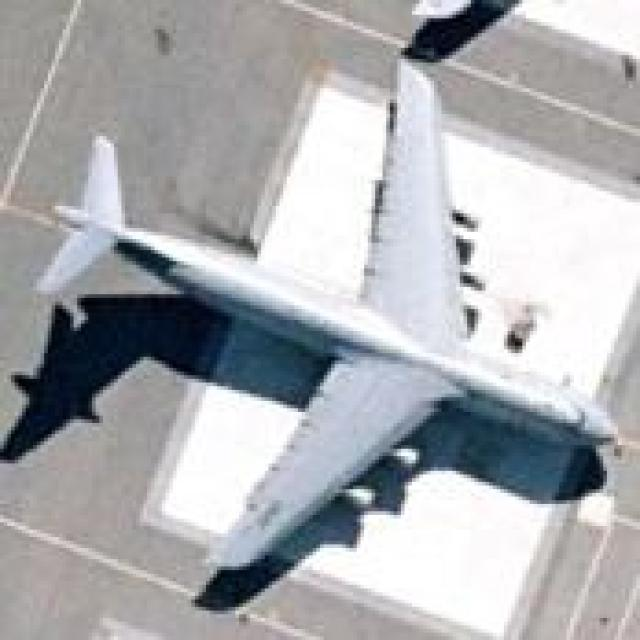C-5_TopDown: (3, 58, 621, 611)
